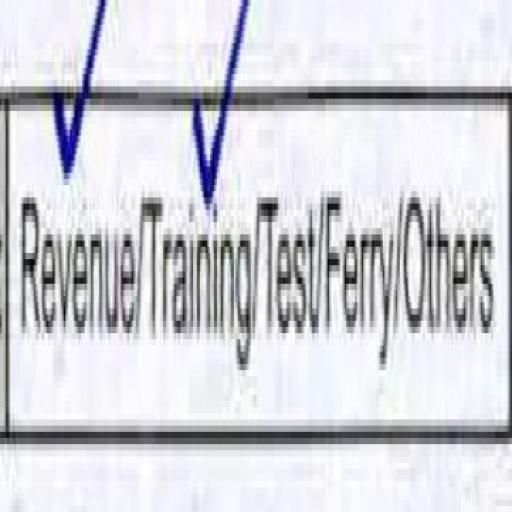check: (9, 0, 138, 475), (144, 0, 250, 512)
